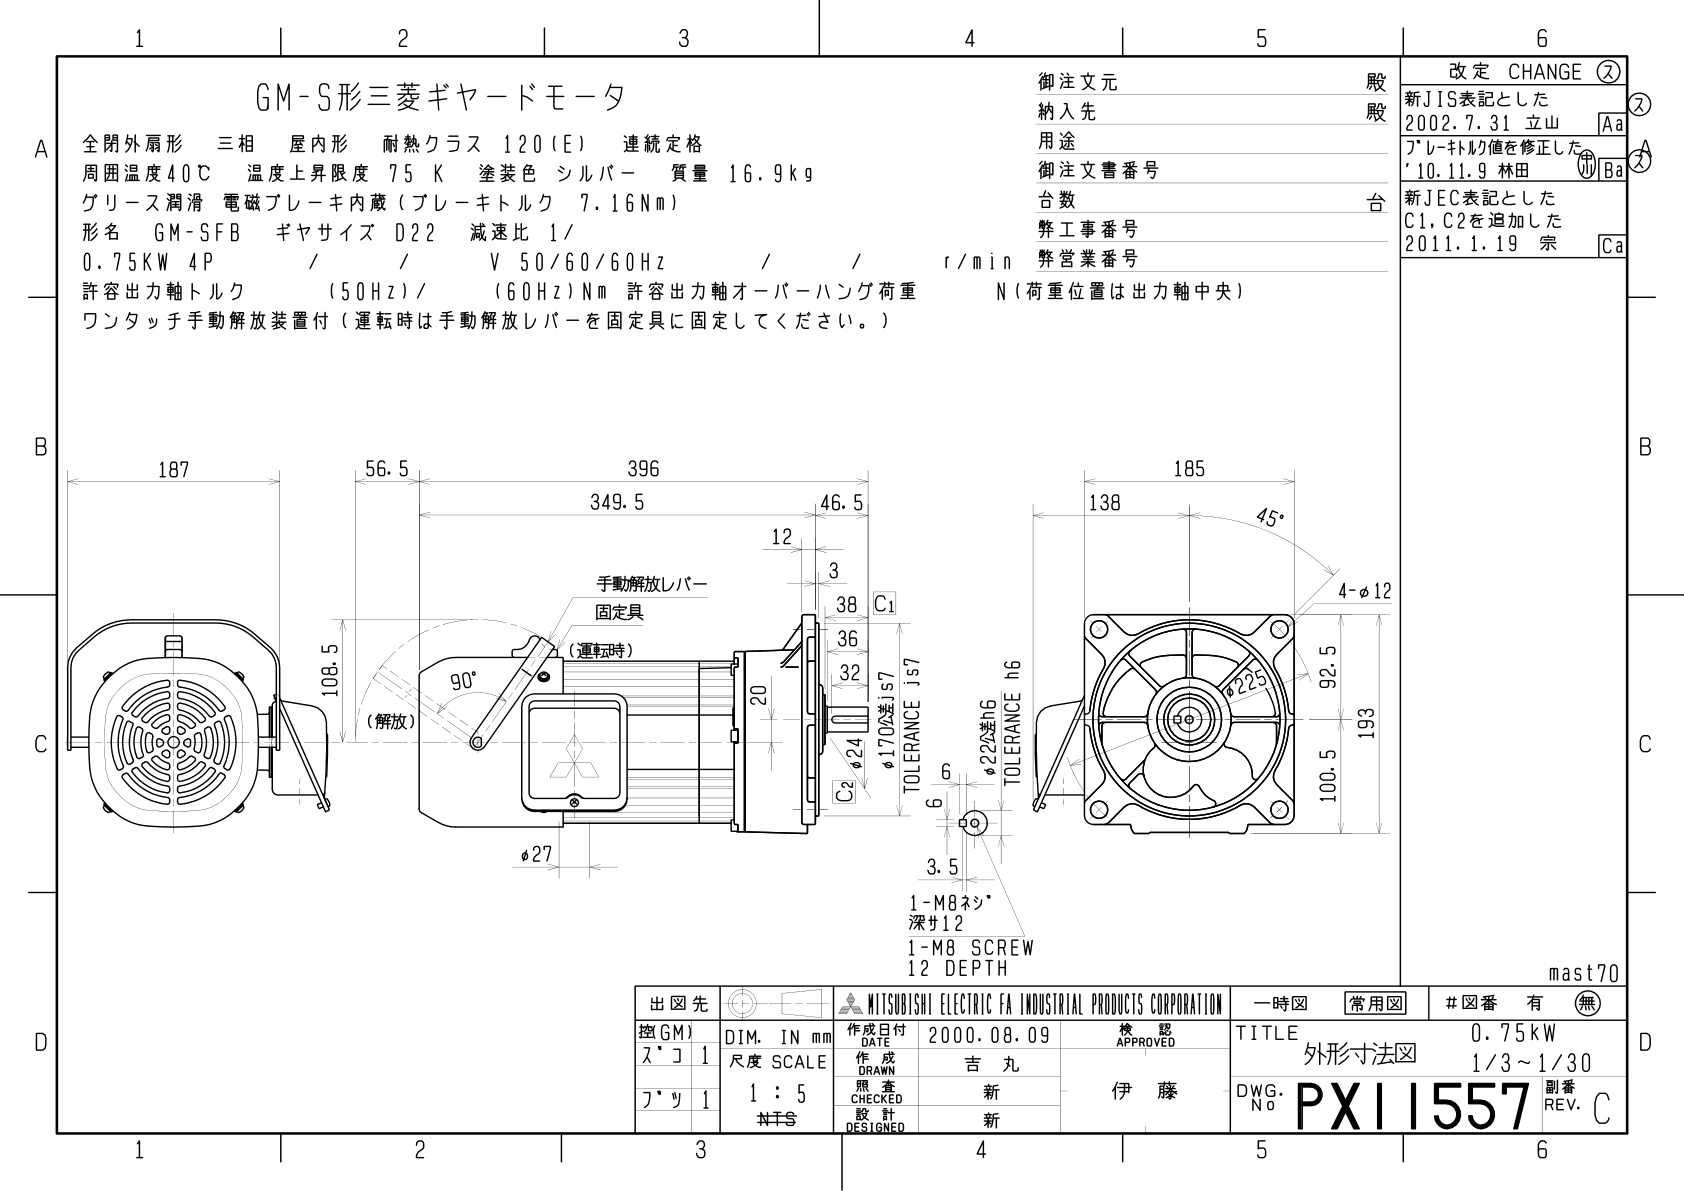GM_S_手動ブレーキ＿三相_フランジ: (61, 416, 1395, 982)
